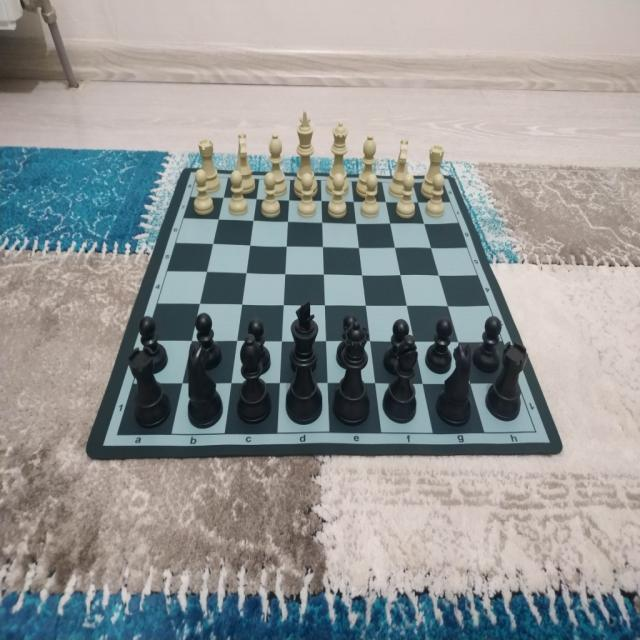chess-table-corners: (524, 420, 546, 443), (110, 427, 124, 442)
